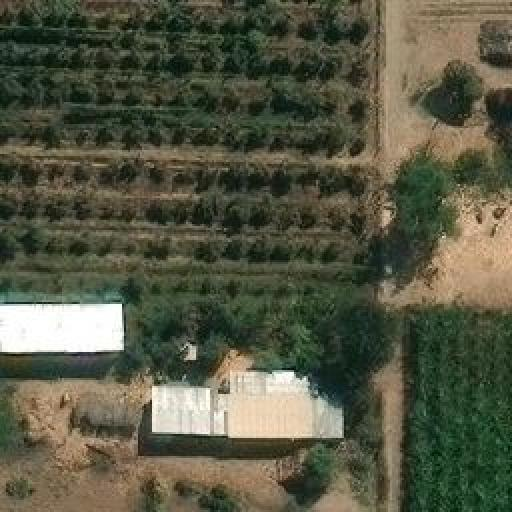manzanas: (0, 301, 373, 510)
